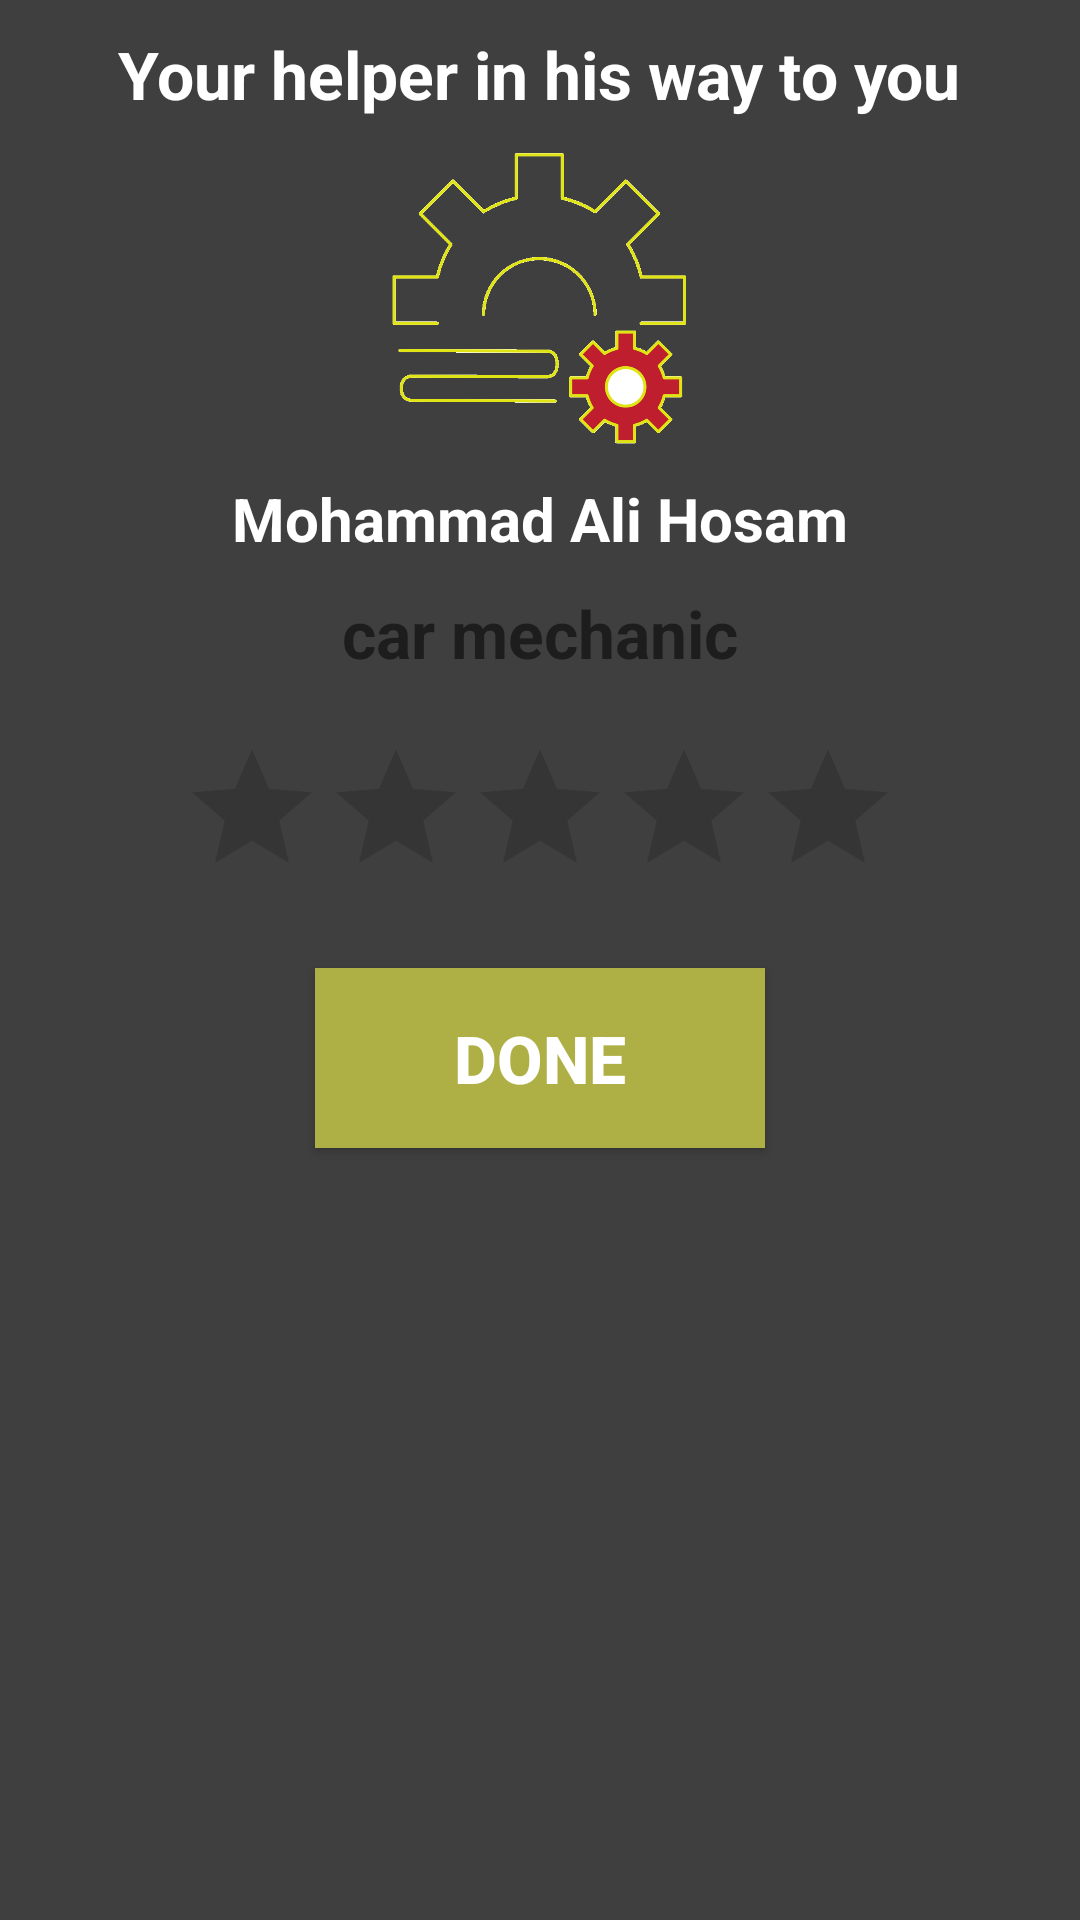

Where icons sit on this 1080w x 1920h app screen, as (x1, y1, x2, y2):
settings: (392, 153, 686, 444)
